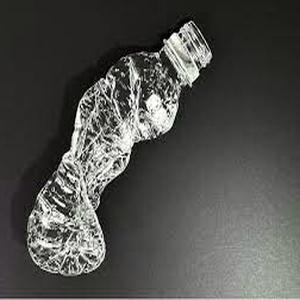Plastic: (20, 18, 216, 278)
